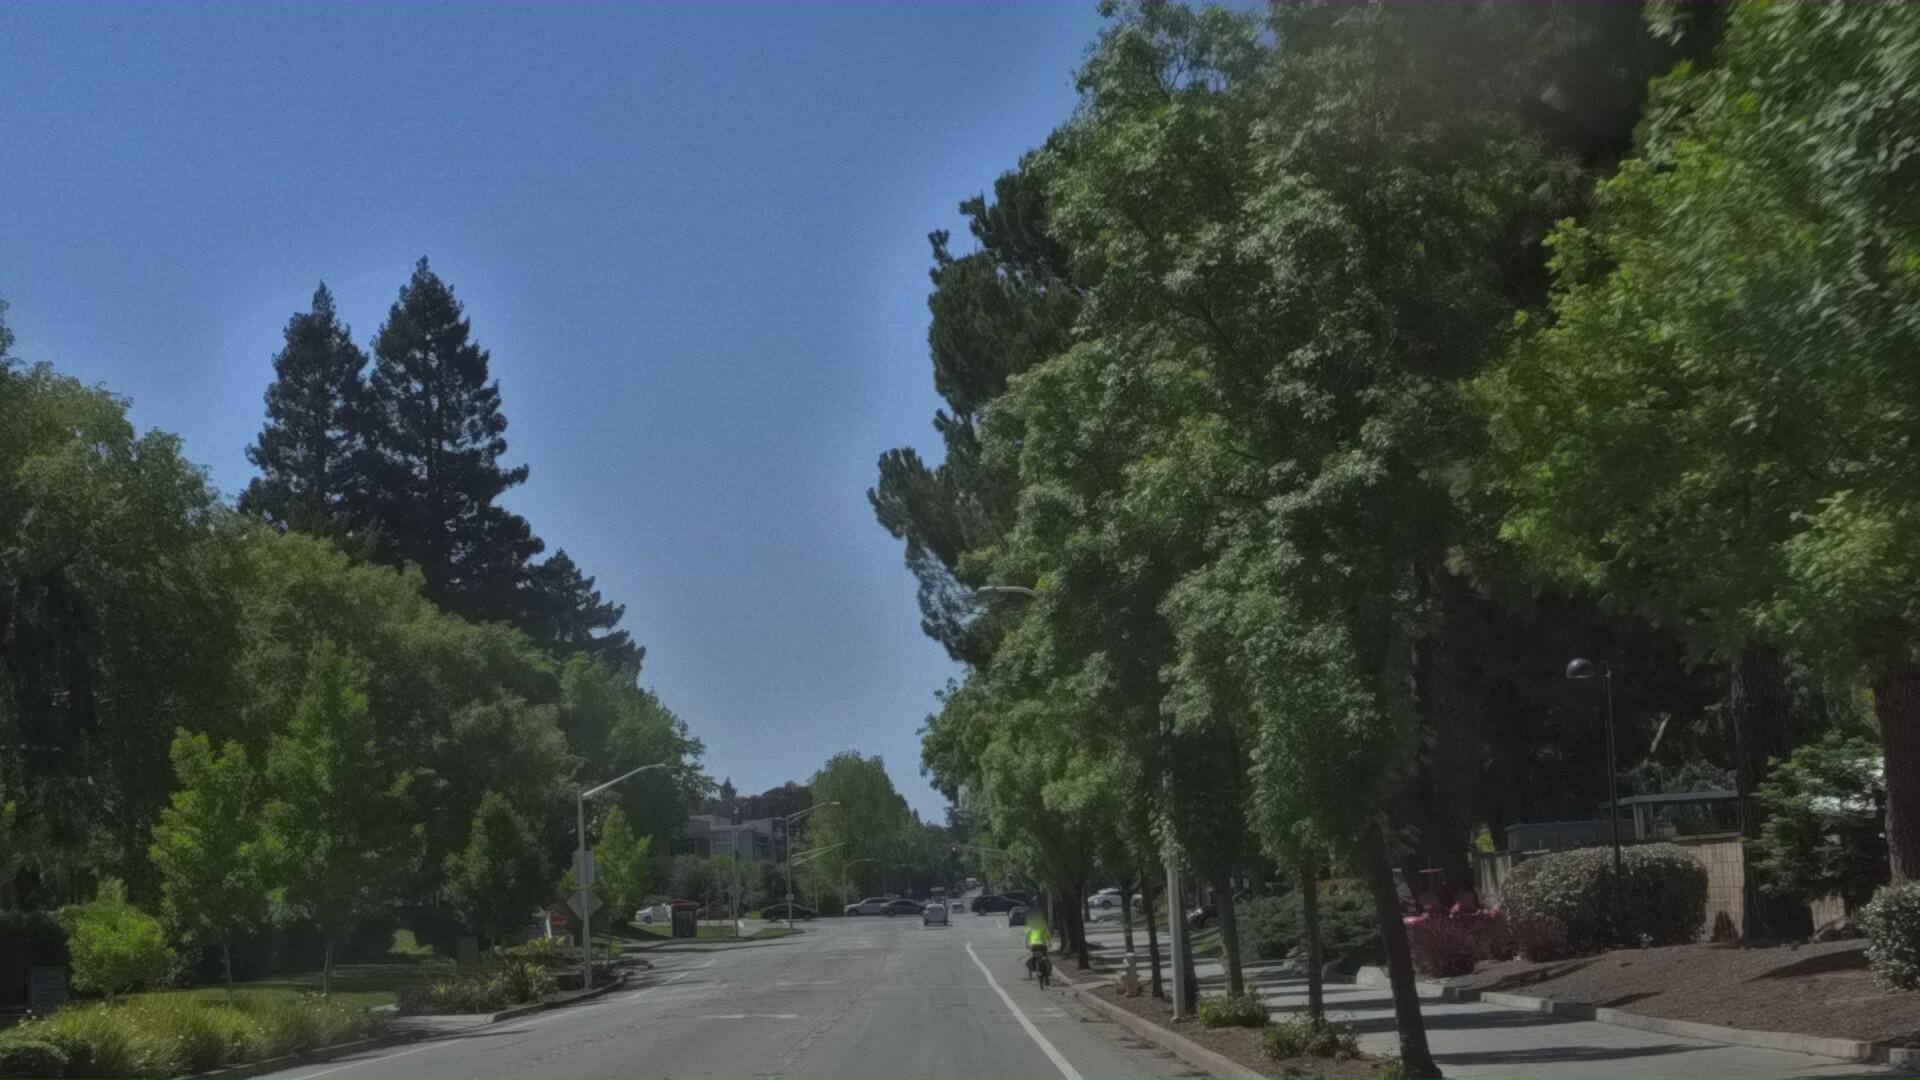bicycle: (1029, 910, 1079, 1004)
